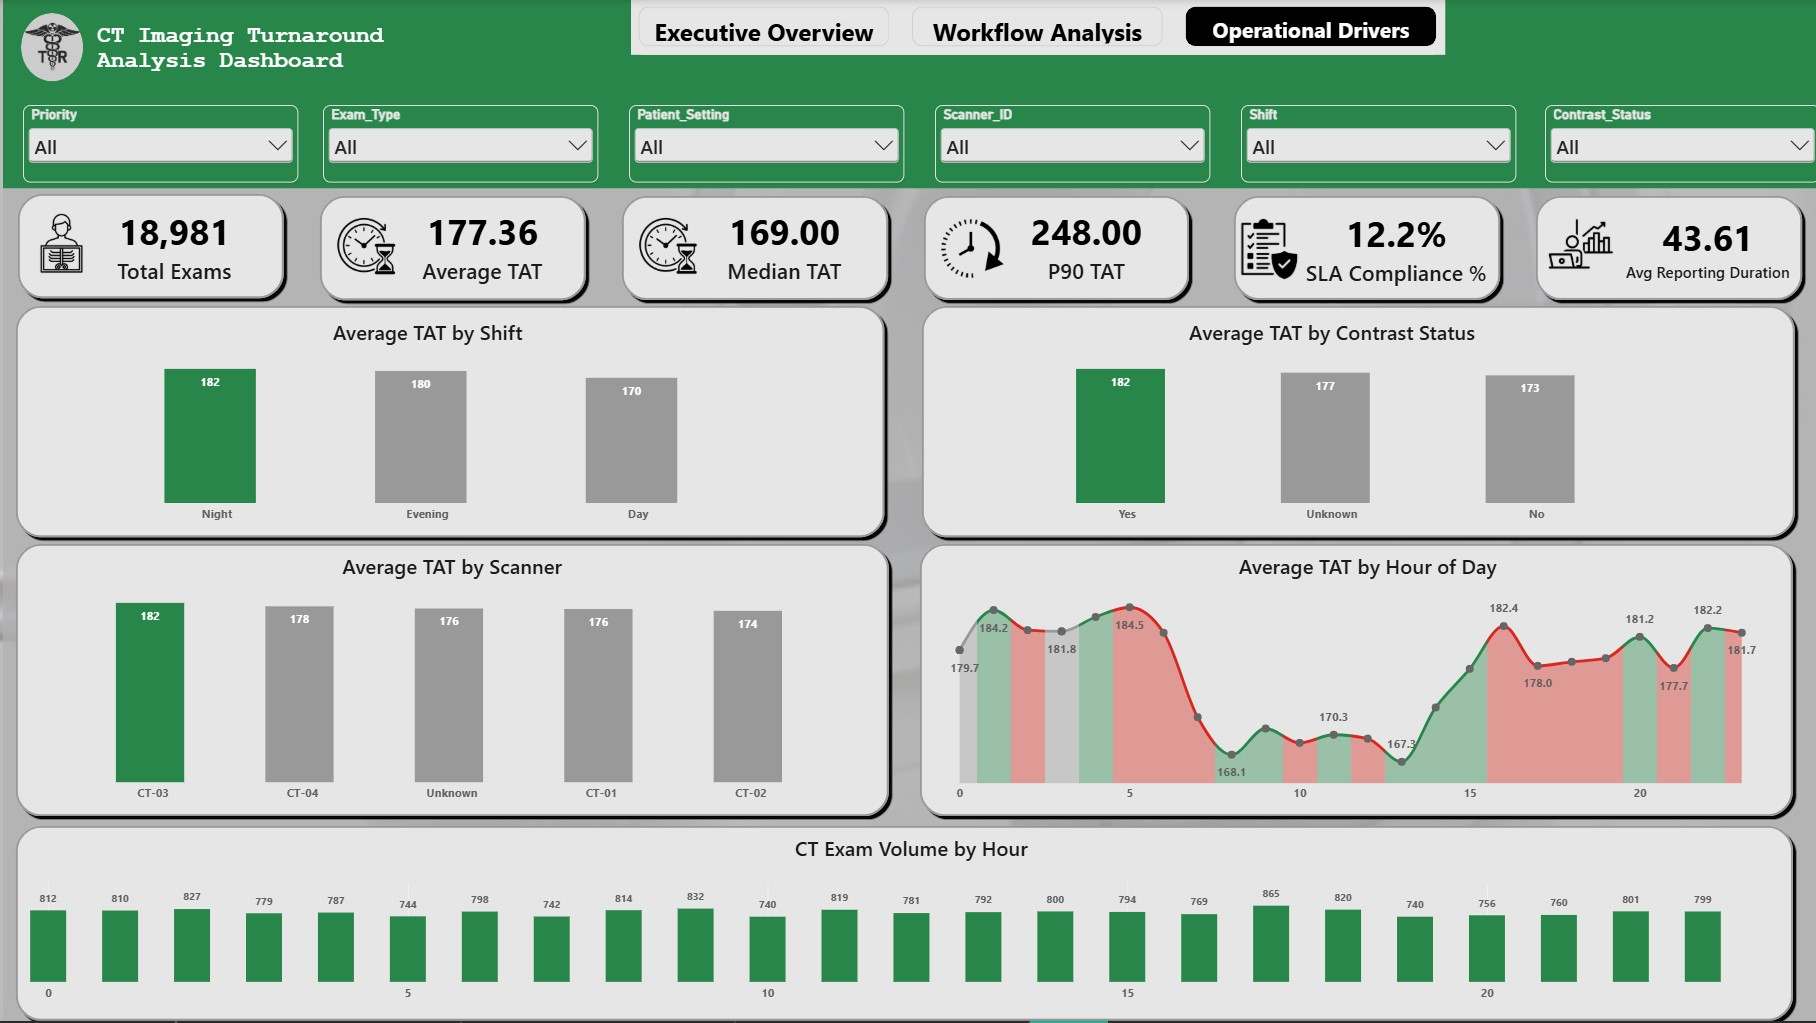

Layout of this report page (visuals, bound fields, positions):
{"tool":"powerbi","page":{"name":"Operational Drivers","canvas":[1920,1080],"ordinal":2},"visuals":[{"type":"shape","box":[0,0,1920,200.2],"z":0},{"type":"shape","box":[1613.8,202,291.7,120.2],"z":0,"group":"g6"},{"type":"group","id":"g1","title":"Group 1","box":[20,13.8,66.2,71.2],"z":1000},{"type":"cardVisual","fields":{"Data":["Fact_CT_Exams.Avg Reporting Duration"]},"box":[1695.8,202,209.3,120.9],"z":1000,"group":"g6"},{"type":"textbox","box":[98.8,25,317.5,61.2],"z":2000},{"type":"image","box":[1619.1,229.9,95.3,57],"z":2000,"group":"g6"},{"type":"shape","box":[664.3,0,860.2,59.2],"z":3000},{"type":"shape","box":[20,13.8,65.7,72.3],"z":3000,"group":"g1"},{"type":"image","box":[24,21.8,58.2,56.4],"z":3500,"group":"g1"},{"type":"slicer","fields":{"Values":["Fact_CT_Exams.Priority"]},"box":[20.5,111.5,291.2,81.9],"z":4000},{"type":"slicer","fields":{"Values":["Fact_CT_Exams.Exam_Type"]},"box":[339,111.5,291.2,81.9],"z":5000},{"type":"slicer","fields":{"Values":["Fact_CT_Exams.Patient_Setting"]},"box":[662,111.5,291.2,81.9],"z":6000},{"type":"slicer","fields":{"Values":["Fact_CT_Exams.Scanner_ID"]},"box":[985,111.5,291.2,81.9],"z":7000},{"type":"slicer","fields":{"Values":["Fact_CT_Exams.Shift"]},"box":[1308.1,111.5,291.2,81.9],"z":8000},{"type":"slicer","fields":{"Values":["Fact_CT_Exams.Contrast_Status"]},"box":[1629.5,112.1,291.2,81.9],"z":9000},{"type":"shape","box":[10.4,199.9,291.2,120.6],"z":10000,"group":"g8"},{"type":"group","id":"g2","title":"Group 3","box":[328.9,202.2,291.6,120.6],"z":10000},{"type":"group","id":"g3","title":"Group 4","box":[648.3,202,291.7,120.2],"z":11000},{"type":"shape","box":[328.9,202.2,291.2,120.6],"z":11000,"group":"g2"},{"type":"shape","box":[648.3,202,291.7,120.2],"z":12000,"group":"g3"},{"type":"group","id":"g4","title":"Group 5","box":[967.4,202,292,120.2],"z":12000},{"type":"shape","box":[967.4,202,290.5,120.2],"z":13000,"group":"g4"},{"type":"group","id":"g5","title":"Group 6","box":[1294.7,202,291.7,120.2],"z":13000},{"type":"shape","box":[1294.7,202,291.7,120.2],"z":14000,"group":"g5"},{"type":"group","id":"g6","title":"Group 7","box":[1613.8,202,291.7,120.9],"z":14000},{"type":"shape","box":[9.1,318.5,928.2,254.8],"z":15000},{"type":"cardVisual","fields":{"Data":["Fact_CT_Exams.Total Exams"]},"box":[66,212.3,227.8,96],"z":16000,"group":"g7"},{"type":"shape","box":[966.8,318.5,932.7,254.8],"z":16000},{"type":"group","id":"g7","title":"Group 2","box":[20.1,210.9,273.7,97.4],"z":17000,"group":"g8"},{"type":"image","box":[20.1,210.9,81.6,93.6],"z":17000,"group":"g7"},{"type":"shape","box":[9.1,571,932.7,298],"z":17000},{"type":"cardVisual","fields":{"Data":["Fact_CT_Exams.Average TAT"]},"box":[392.6,213.5,227.8,96],"z":18000,"group":"g2"},{"type":"shape","box":[964.5,570.9,932.7,298],"z":18000},{"type":"image","box":[328.9,217.9,109.7,89.4],"z":19000,"group":"g2"},{"type":"shape","box":[9.1,869,1888.2,216.1],"z":19000},{"type":"group","id":"g8","title":"Group 8","box":[10.4,199.9,291.2,120.6],"z":20000},{"type":"cardVisual","fields":{"Data":["Fact_CT_Exams.Median TAT"]},"box":[710.7,212.4,227.8,96],"z":20000,"group":"g3"},{"type":"image","box":[648.4,217.6,109.2,88.7],"z":21000,"group":"g3"},{"type":"clusteredColumnChart","title":"Average TAT by Shift","fields":{"Y":["Fact_CT_Exams.Average TAT"],"Category":["Fact_CT_Exams.Shift"]},"box":[66,323,766.6,250.2],"z":21000},{"type":"cardVisual","fields":{"Data":["Fact_CT_Exams.P90 TAT"]},"box":[1031.6,212.4,227.8,96],"z":22000,"group":"g4"},{"type":"clusteredColumnChart","title":"Average TAT by Contrast Status","fields":{"Y":["Fact_CT_Exams.Average TAT"],"Category":["Fact_CT_Exams.Contrast_Status"]},"box":[1030.5,323,746.2,250.2],"z":22000},{"type":"image","box":[967.4,216.3,109.5,91.7],"z":23000,"group":"g4"},{"type":"clusteredColumnChart","title":"CT Exam Volume by Hour","fields":{"Category":["Fact_CT_Exams.Order Hour"],"Y":["Fact_CT_Exams.Exam Volume"]},"box":[0,869,1920,211],"z":23000},{"type":"cardVisual","fields":{"Data":["Fact_CT_Exams.SLA Compliance %"]},"box":[1357.4,215.6,227.8,96],"z":24000,"group":"g5"},{"type":"clusteredColumnChart","title":"Average TAT by Scanner","fields":{"Y":["Fact_CT_Exams.Average TAT"],"Category":["Fact_CT_Exams.Scanner_ID"]},"box":[40.9,571,869,298],"z":24000},{"type":"image","box":[1304.2,228.4,68.6,67.4],"z":25000,"group":"g5"},{"type":"lineChart","title":"Average TAT by Hour of Day","fields":{"Y":["Fact_CT_Exams.Average TAT"],"Category":["Fact_CT_Exams.Order Hour"]},"box":[985,571,914.5,298],"z":25000},{"type":"pageNavigator","box":[664.4,0,860.3,58.9],"z":26000}]}

Visuals, with their boxes in screenshot pixels (x1, y1, x2, y2), scaled from the page's 1920x1080 canvas onto the 1816x1023 screenshot:
shape: region(0, 0, 1815, 190)
shape: region(1526, 191, 1802, 305)
"Group 1" group: region(19, 13, 82, 81)
cardVisual - Fact_CT_Exams.Avg Reporting Duration: region(1604, 191, 1802, 306)
textbox: region(93, 24, 394, 82)
image: region(1531, 218, 1622, 272)
shape: region(628, 0, 1442, 56)
shape: region(19, 13, 81, 82)
image: region(23, 21, 78, 74)
slicer - Fact_CT_Exams.Priority: region(19, 106, 295, 183)
slicer - Fact_CT_Exams.Exam_Type: region(321, 106, 596, 183)
slicer - Fact_CT_Exams.Patient_Setting: region(626, 106, 902, 183)
slicer - Fact_CT_Exams.Scanner_ID: region(932, 106, 1207, 183)
slicer - Fact_CT_Exams.Shift: region(1237, 106, 1513, 183)
slicer - Fact_CT_Exams.Contrast_Status: region(1541, 106, 1815, 184)
shape: region(10, 189, 285, 304)
"Group 3" group: region(311, 192, 587, 306)
"Group 4" group: region(613, 191, 889, 305)
shape: region(311, 192, 587, 306)
shape: region(613, 191, 889, 305)
"Group 5" group: region(915, 191, 1191, 305)
shape: region(915, 191, 1190, 305)
"Group 6" group: region(1225, 191, 1500, 305)
shape: region(1225, 191, 1500, 305)
"Group 7" group: region(1526, 191, 1802, 306)
shape: region(9, 302, 887, 543)
cardVisual - Fact_CT_Exams.Total Exams: region(62, 201, 278, 292)
shape: region(914, 302, 1797, 543)
"Group 2" group: region(19, 200, 278, 292)
image: region(19, 200, 96, 288)
shape: region(9, 541, 891, 823)
cardVisual - Fact_CT_Exams.Average TAT: region(371, 202, 587, 293)
shape: region(912, 541, 1794, 823)
image: region(311, 206, 415, 291)
shape: region(9, 823, 1795, 1022)
"Group 8" group: region(10, 189, 285, 304)
cardVisual - Fact_CT_Exams.Median TAT: region(672, 201, 888, 292)
image: region(613, 206, 717, 290)
"Average TAT by Shift" clusteredColumnChart: region(62, 306, 788, 543)
cardVisual - Fact_CT_Exams.P90 TAT: region(976, 201, 1191, 292)
"Average TAT by Contrast Status" clusteredColumnChart: region(975, 306, 1680, 543)
image: region(915, 205, 1019, 292)
"CT Exam Volume by Hour" clusteredColumnChart: region(0, 823, 1815, 1022)
cardVisual - Fact_CT_Exams.SLA Compliance %: region(1284, 204, 1499, 295)
"Average TAT by Scanner" clusteredColumnChart: region(39, 541, 861, 823)
image: region(1234, 216, 1298, 280)
"Average TAT by Hour of Day" lineChart: region(932, 541, 1797, 823)
pageNavigator: region(628, 0, 1442, 56)
